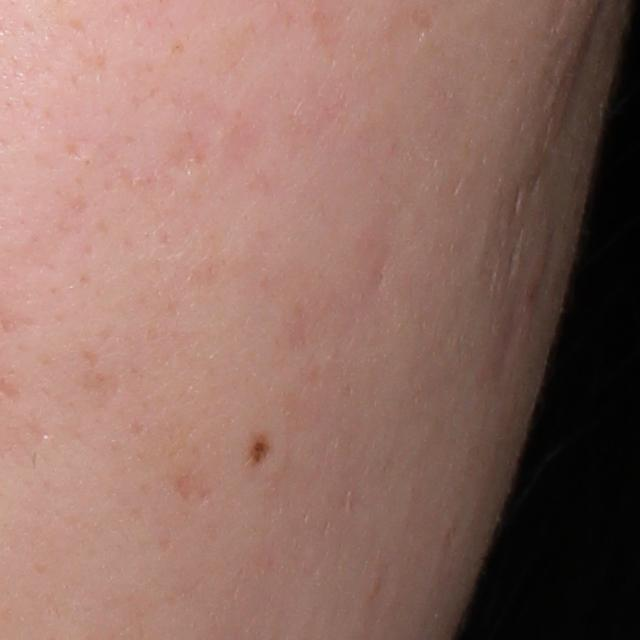atrophic_scar: (558, 1, 608, 134)
nevus: (251, 435, 271, 463)
